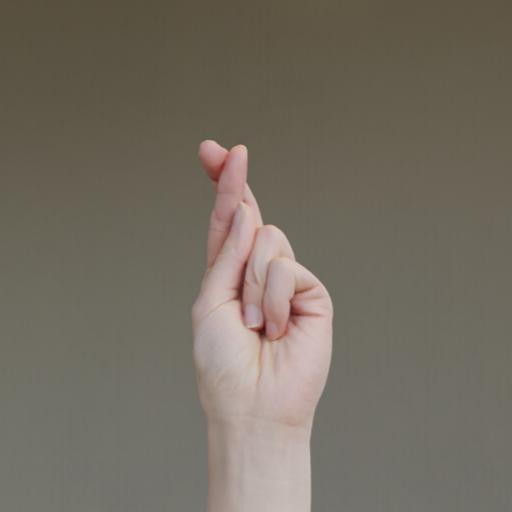R: (166, 116, 366, 443)
